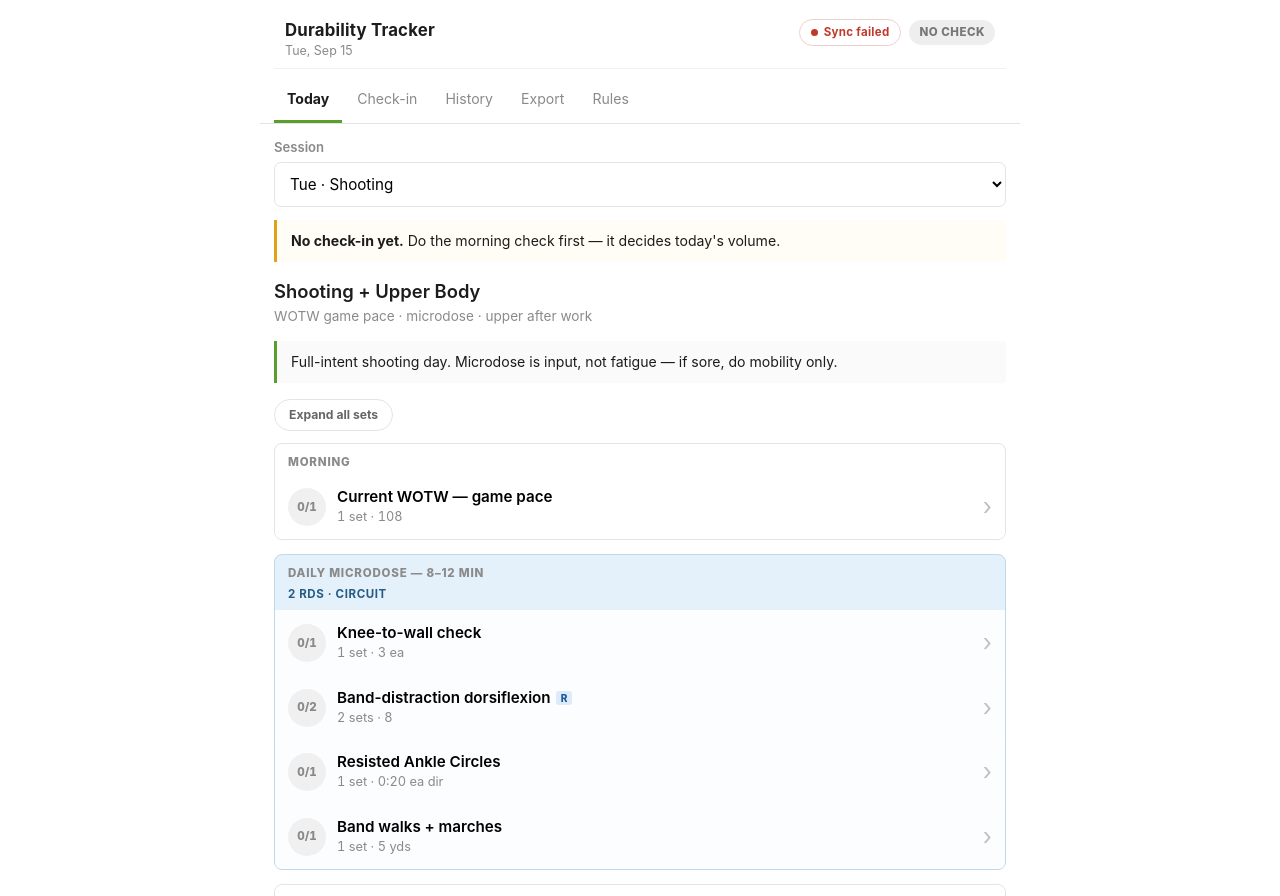
Test: exercise detail › labels sets as rounds inside a superset
The width and height of the screenshot is (1280, 896).
Select "Mon · Lower A" in the dropdown labelled "Session": (640, 184) [274, 162, 1006, 207]
(page scrolled)
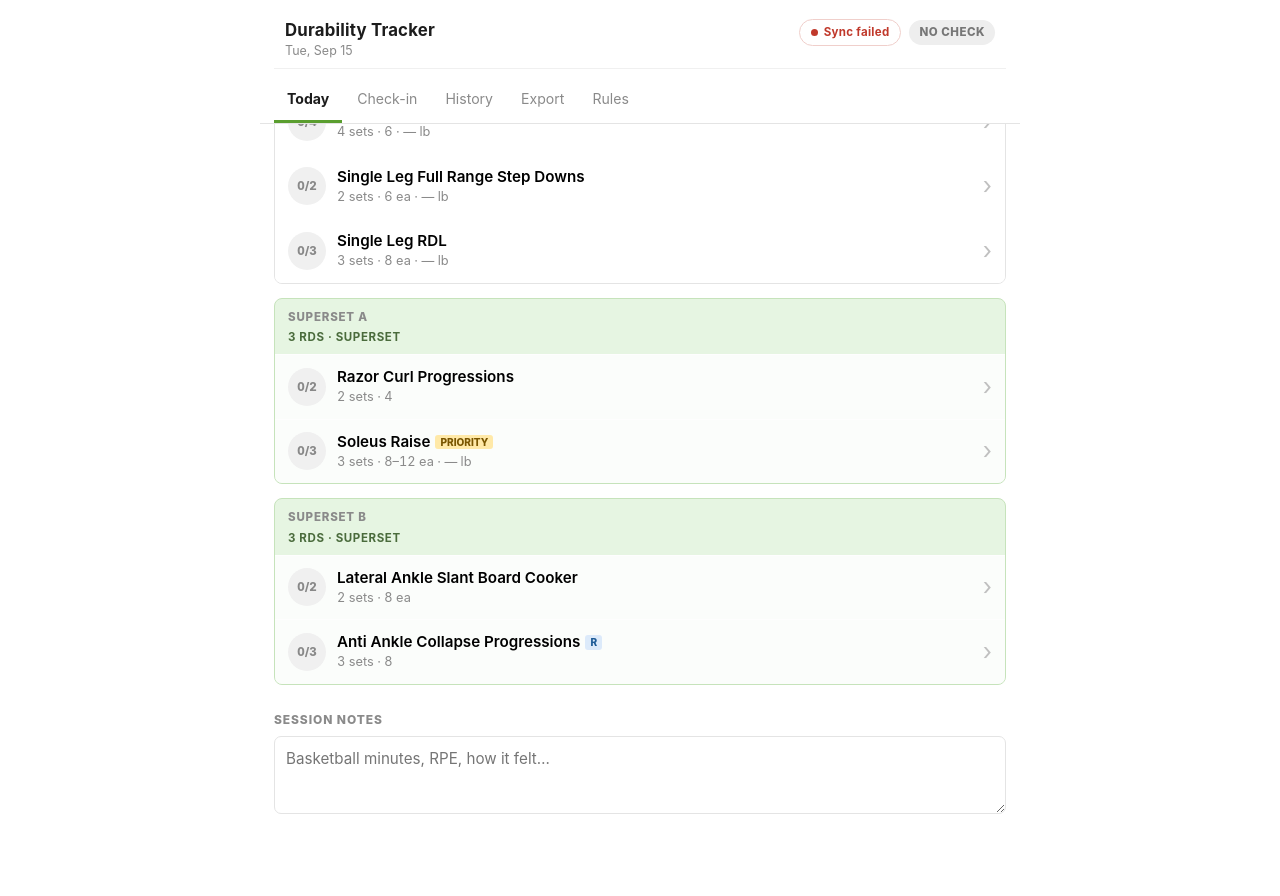
Click the button with class "orow" that starts with "Soleus Raise": (307, 451) [275, 419, 1005, 483]
(page scrolled)
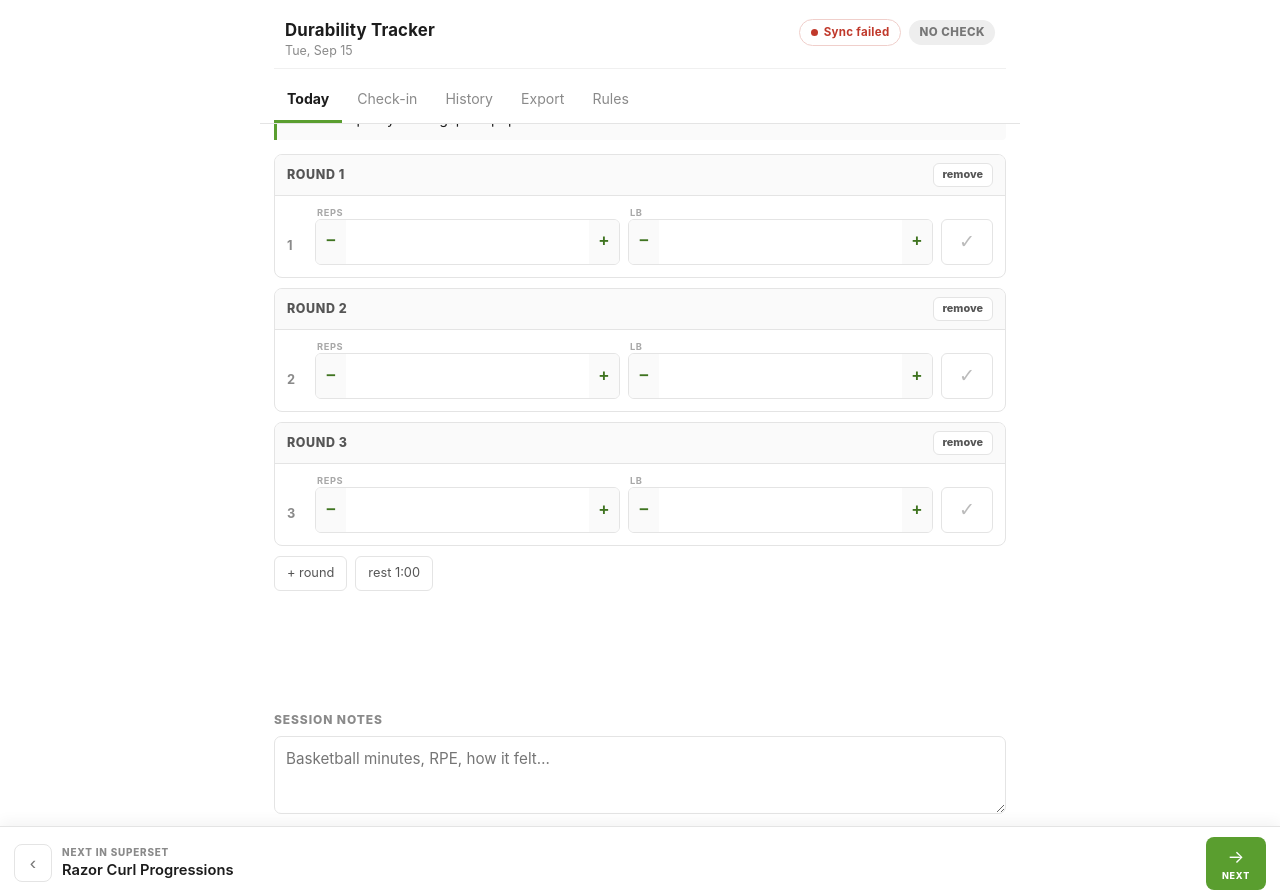
Result: the element with class "dsethead" shows "Round 1" at [287, 167, 345, 182]
